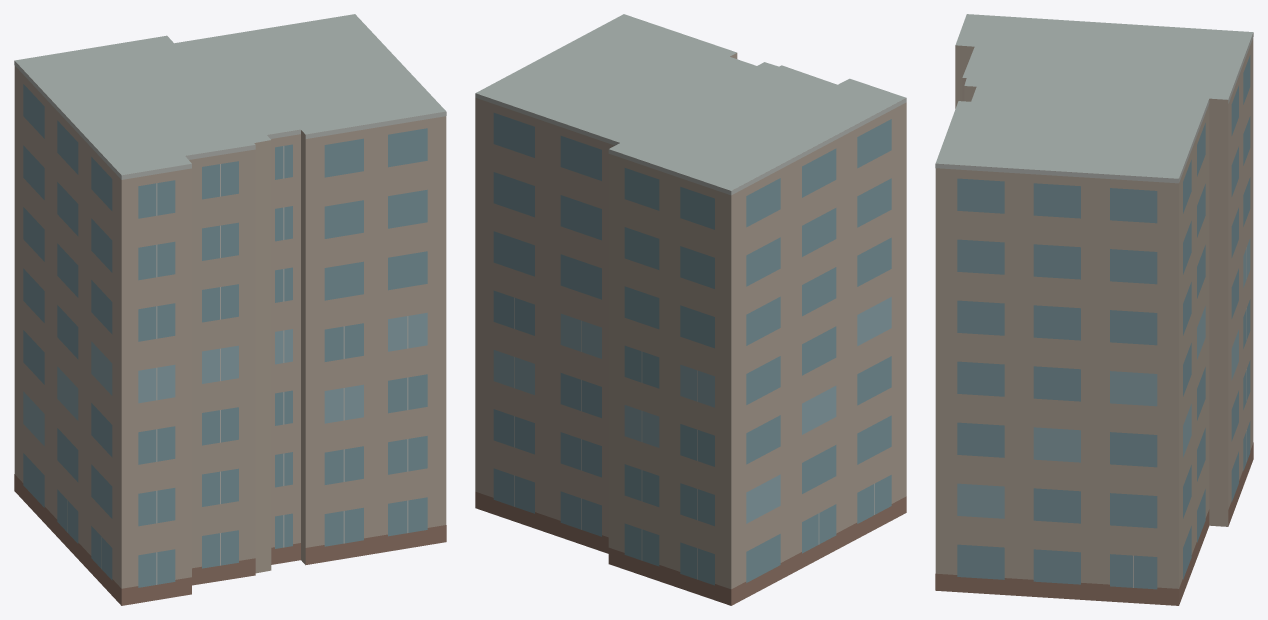
File: survey-upis-32933679.glb
3 views of the same model, side by side, from view 1: azimuth 30°, elevation 25°; view 2: azimuth 150°, elevation 25°; view 3: azimuth 270°, elevation 25° (orthographic). The views are drawn at different scales.
Visible parts, largest first — view 1: survey-upis-32933679.tmp; view 2: survey-upis-32933679.tmp; view 3: survey-upis-32933679.tmp.
Boxes of the visible parts, <box> form: survey-upis-32933679.tmp: <box>14,14,446,605</box>; survey-upis-32933679.tmp: <box>475,14,906,605</box>; survey-upis-32933679.tmp: <box>935,14,1253,605</box>.
Size of the model in its own units: 18.75 by 22.65 by 15.3.
